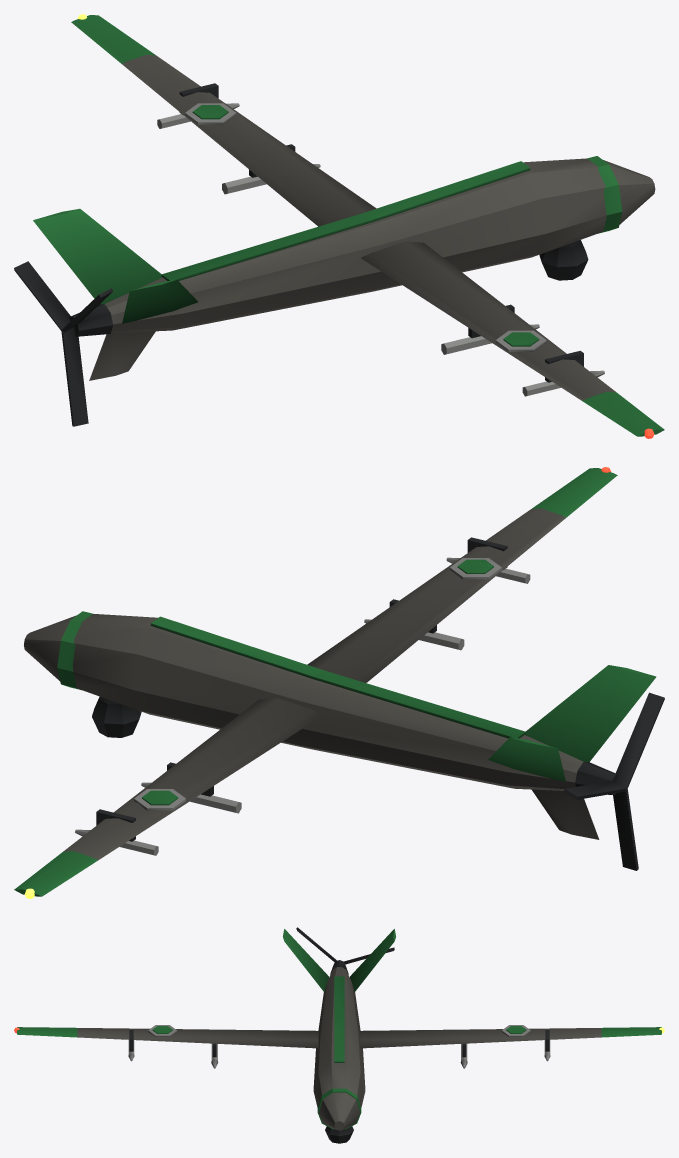
The model's file is u_drone_lod1.glb.
3 renders of one model, top to bottom at view 1: azimuth 30°, elevation 25°; view 2: azimuth 150°, elevation 25°; view 3: azimuth 270°, elevation 25°, orthographic. The views are drawn at different scales.
Visible parts, largest first — view 1: Drone_LOD1_Walls, Drone_LOD1_Details; view 2: Drone_LOD1_Walls, Drone_LOD1_Details; view 3: Drone_LOD1_Walls, Drone_LOD1_Details.
Part boxes in pixels (bbox=[...]): Drone_LOD1_Walls: bbox=[33, 15, 664, 436]; Drone_LOD1_Details: bbox=[14, 14, 654, 438]; Drone_LOD1_Walls: bbox=[14, 468, 656, 896]; Drone_LOD1_Details: bbox=[24, 467, 664, 898]; Drone_LOD1_Walls: bbox=[17, 929, 661, 1130]; Drone_LOD1_Details: bbox=[14, 927, 664, 1143].
Size of the model in its own units: 0.5358 by 0.1378 by 0.9014.
